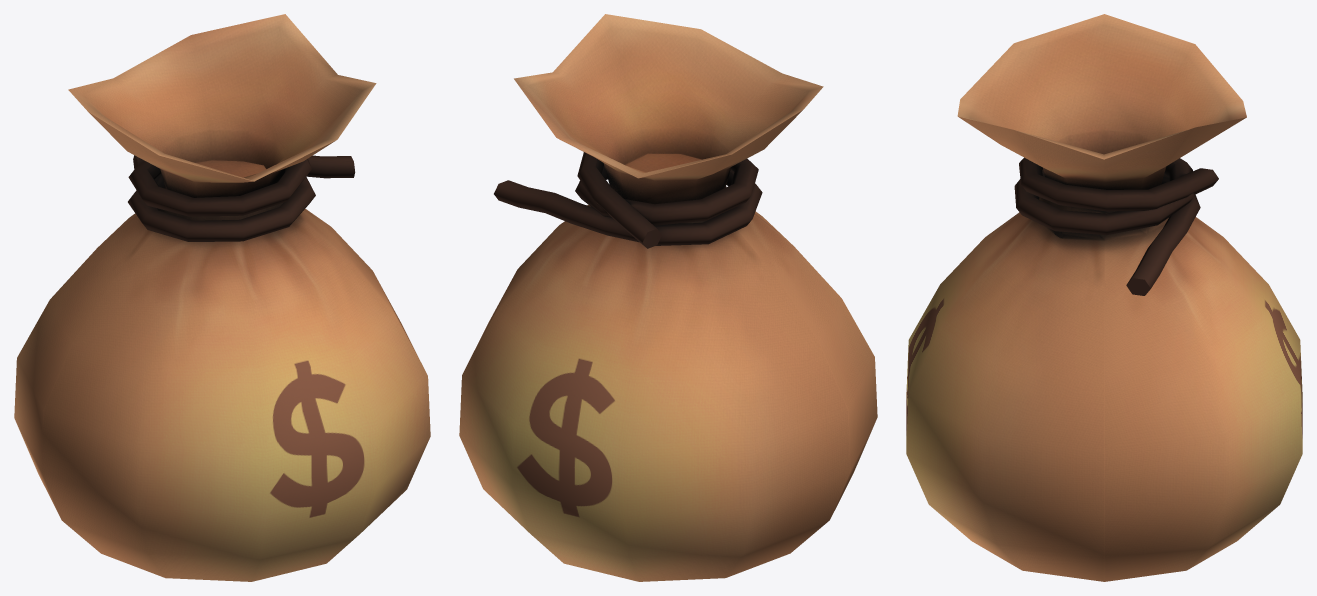
Rendered from Treasure_Sack.fbx.
3 renders of one model, left to right at view 1: azimuth 30°, elevation 25°; view 2: azimuth 150°, elevation 25°; view 3: azimuth 270°, elevation 25°, orthographic.
Parts seen in each view (by area): view 1: Treasure_Sack; view 2: Treasure_Sack; view 3: Treasure_Sack.
Part boxes in pixels (x1,y1,x2,y2): Treasure_Sack: [14, 14, 430, 581]; Treasure_Sack: [459, 14, 877, 581]; Treasure_Sack: [906, 14, 1302, 581].
Bounding box in the file's own units: 0.1796 × 0.2258 × 0.1708.
